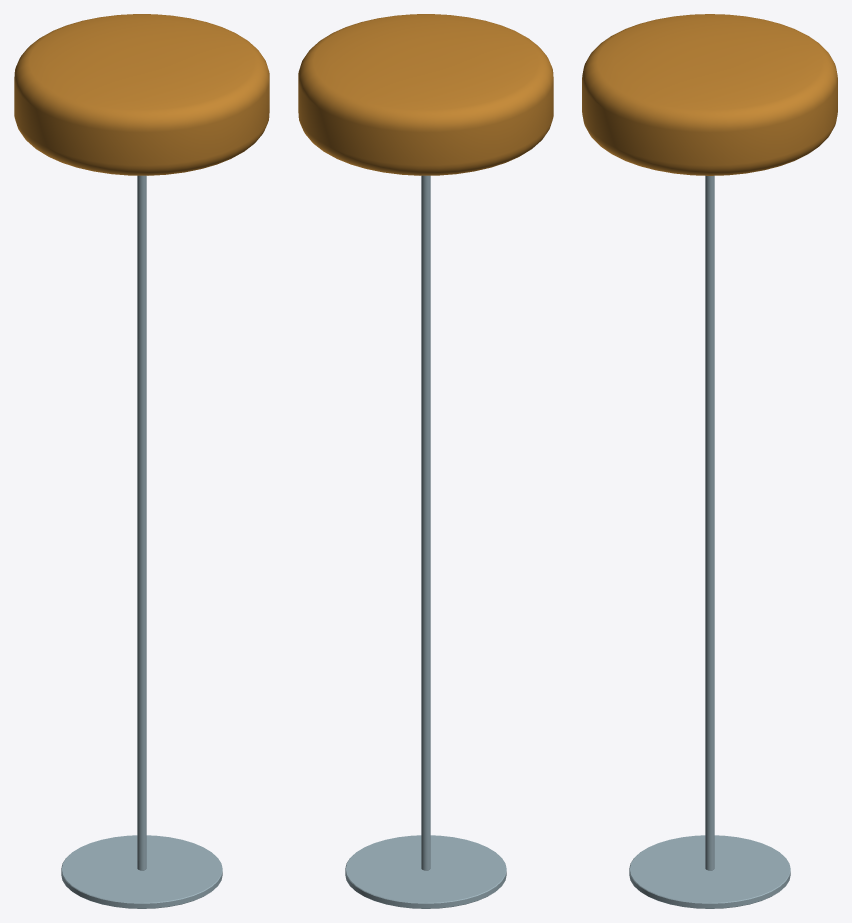
Rendered from lamp.gltf.
3 views of the same model, side by side, from view 1: azimuth 30°, elevation 25°; view 2: azimuth 150°, elevation 25°; view 3: azimuth 270°, elevation 25° (orthographic).
Visible parts, largest first — view 1: Lamp_39; view 2: Lamp_39; view 3: Lamp_39.
Boxes of the visible parts, left/top/right/bottom form: Lamp_39: left=14, top=14, right=269, bottom=908; Lamp_39: left=298, top=14, right=553, bottom=908; Lamp_39: left=582, top=14, right=837, bottom=908.
Bounding box in the file's own units: 1.81 × 6.39 × 1.81.
